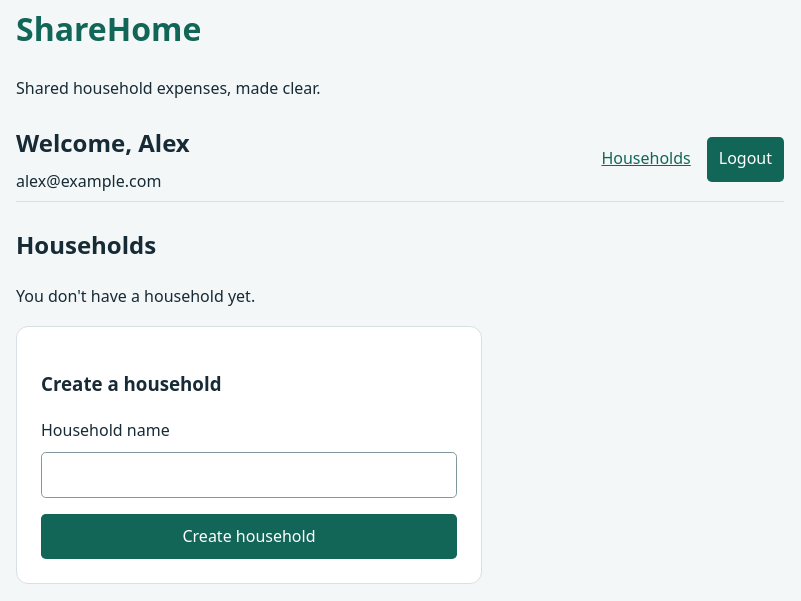
Test: uses the household workflow as the authenticated landing page and supports logout
Expected: the text "You don't have a household yet." is shown, [16,285,255,307]
What coordinates should you click on to do the following:
click the button "Logout"
I would click on:
 (745, 159)
Its box is [707,137,784,182].
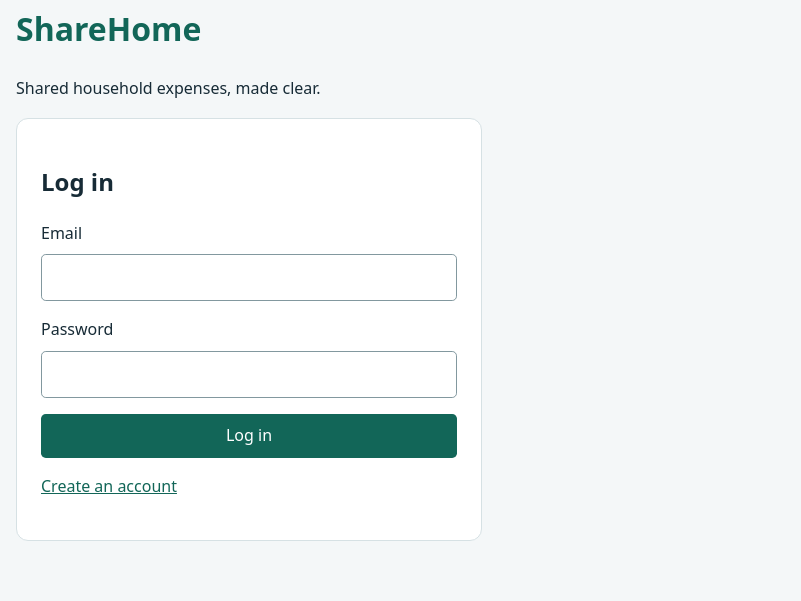
Result: the heading "Log in" is shown at [41,165,114,198]
